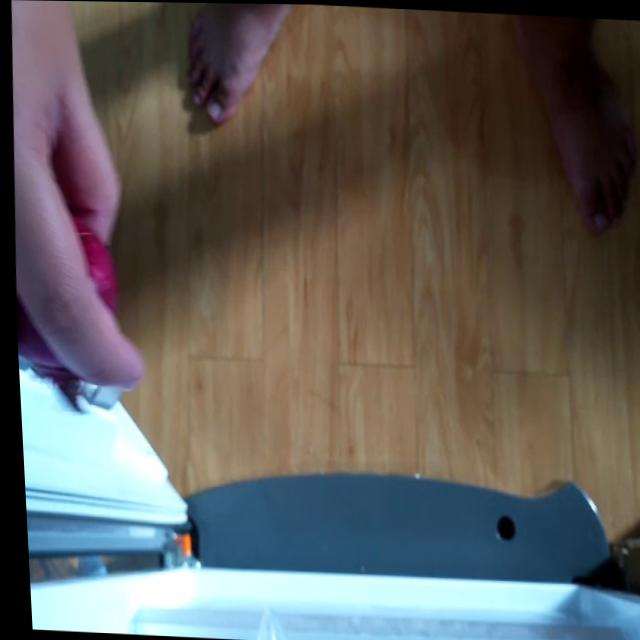onion: (9, 220, 120, 412)
